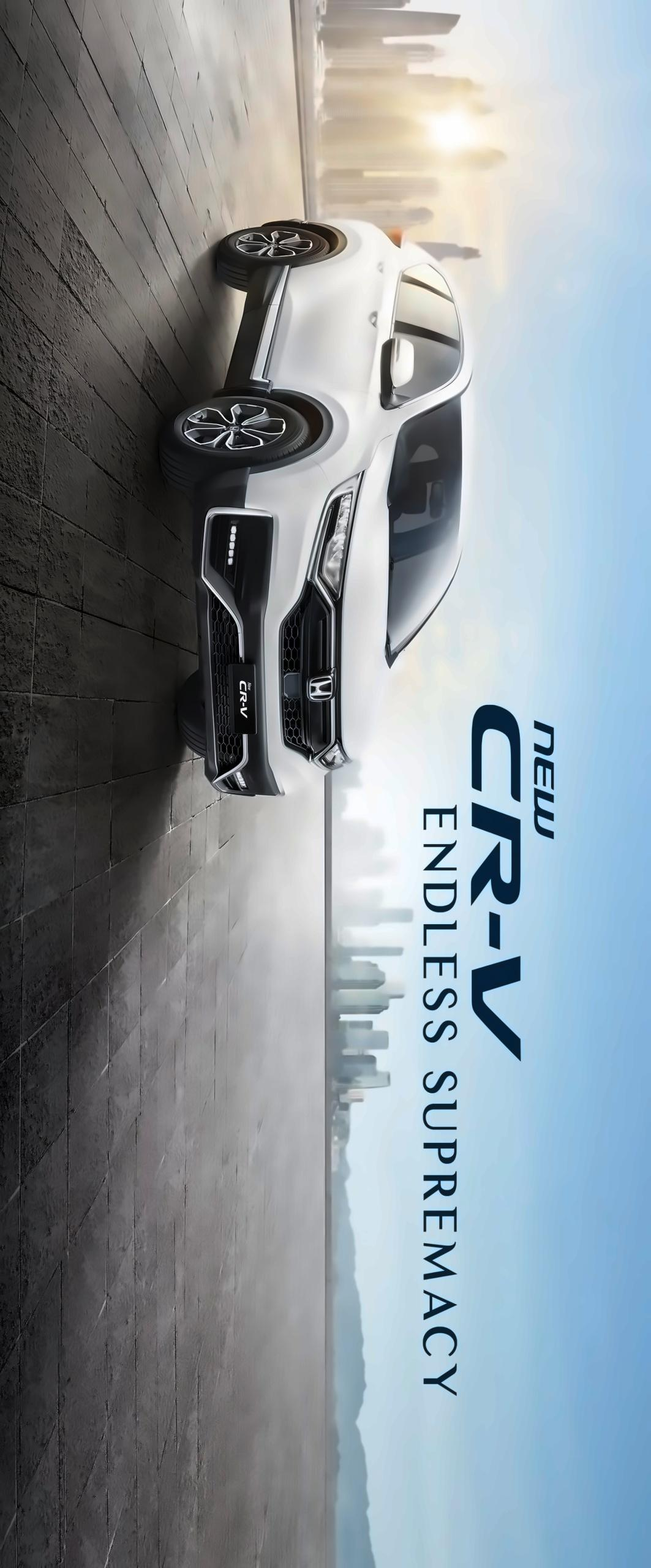Driver-s door - -F-R-: (217, 310, 468, 412)
Fender - -F-R-: (260, 385, 407, 489)
Front bumper: (192, 467, 287, 807)
Headlight - -L-: (310, 744, 351, 774)
Headlight - -R-: (334, 424, 397, 762), (303, 469, 364, 612)
Passenger-s door - -R-R-: (229, 257, 472, 340), (291, 217, 446, 272)
Rear light - -R-: (372, 219, 408, 252)
Side bumper - -R-: (215, 260, 299, 392)
Side mirror - -R-: (377, 341, 421, 407)
